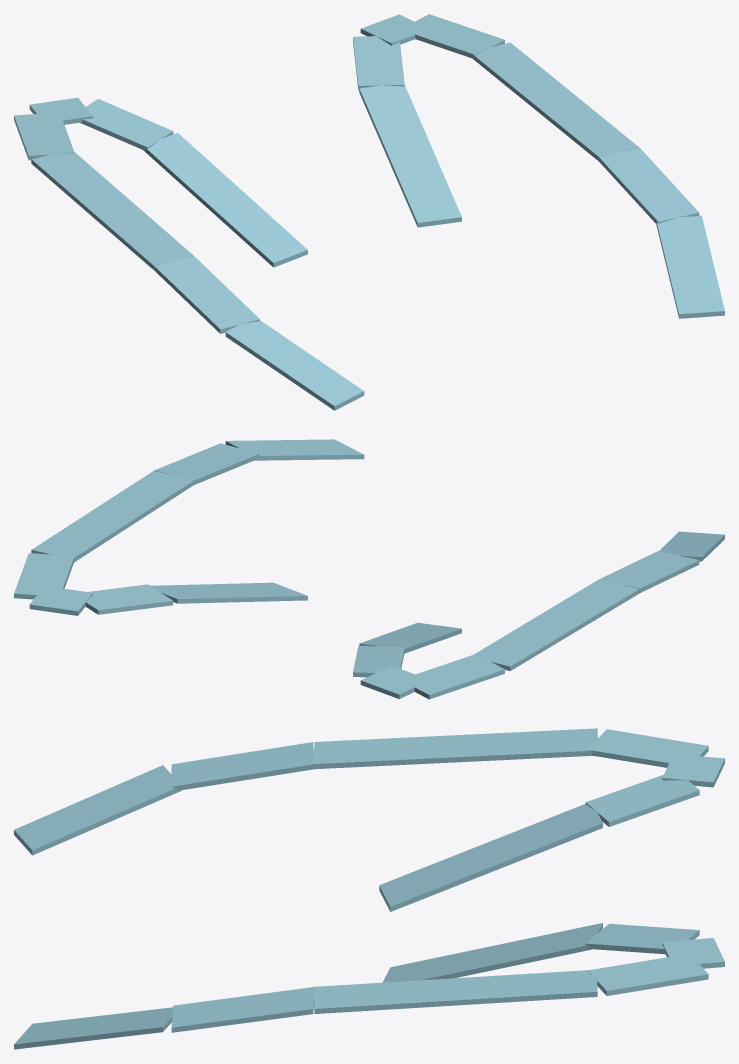
Rendered from Space_Ramps.glb.
3 renders of one model, top to bottom at view 1: azimuth 30°, elevation 25°; view 2: azimuth 150°, elevation 25°; view 3: azimuth 270°, elevation 25°, orthographic. The views are drawn at different scales.
Visible parts, largest first — view 1: Ramp_ramp_r, Ramp_ramp_l; view 2: Ramp_ramp_r, Ramp_ramp_l; view 3: Ramp_ramp_l, Ramp_ramp_r.
Part boxes in pixels (left/top/right/bottom): Ramp_ramp_r: left=353, top=14, right=724, bottom=318; Ramp_ramp_l: left=14, top=97, right=364, bottom=410; Ramp_ramp_r: left=14, top=439, right=364, bottom=615; Ramp_ramp_l: left=353, top=531, right=724, bottom=699; Ramp_ramp_l: left=14, top=728, right=724, bottom=911; Ramp_ramp_r: left=14, top=923, right=724, bottom=1049.
Bounding box in the file's own units: 0.6244 × 0.0896 × 0.7027.
